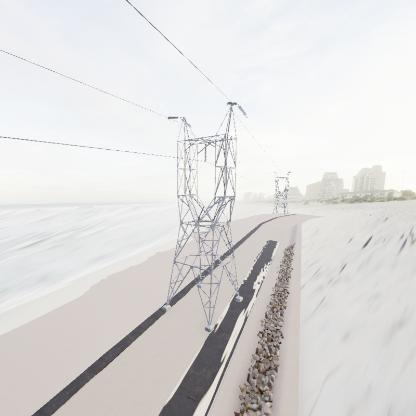tower: (161, 96, 247, 328), (271, 170, 293, 217)
